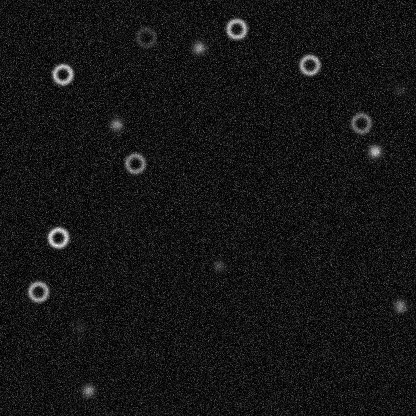Ring: (46, 225, 70, 249), (26, 279, 50, 303), (297, 52, 321, 76), (224, 16, 248, 40), (50, 62, 74, 86), (133, 25, 157, 49), (348, 111, 372, 135), (122, 151, 146, 175)
Spot: (190, 39, 206, 55), (80, 382, 96, 398), (108, 116, 124, 132), (391, 82, 407, 98), (391, 297, 407, 313), (366, 143, 382, 159), (71, 319, 87, 335), (210, 257, 226, 273)
